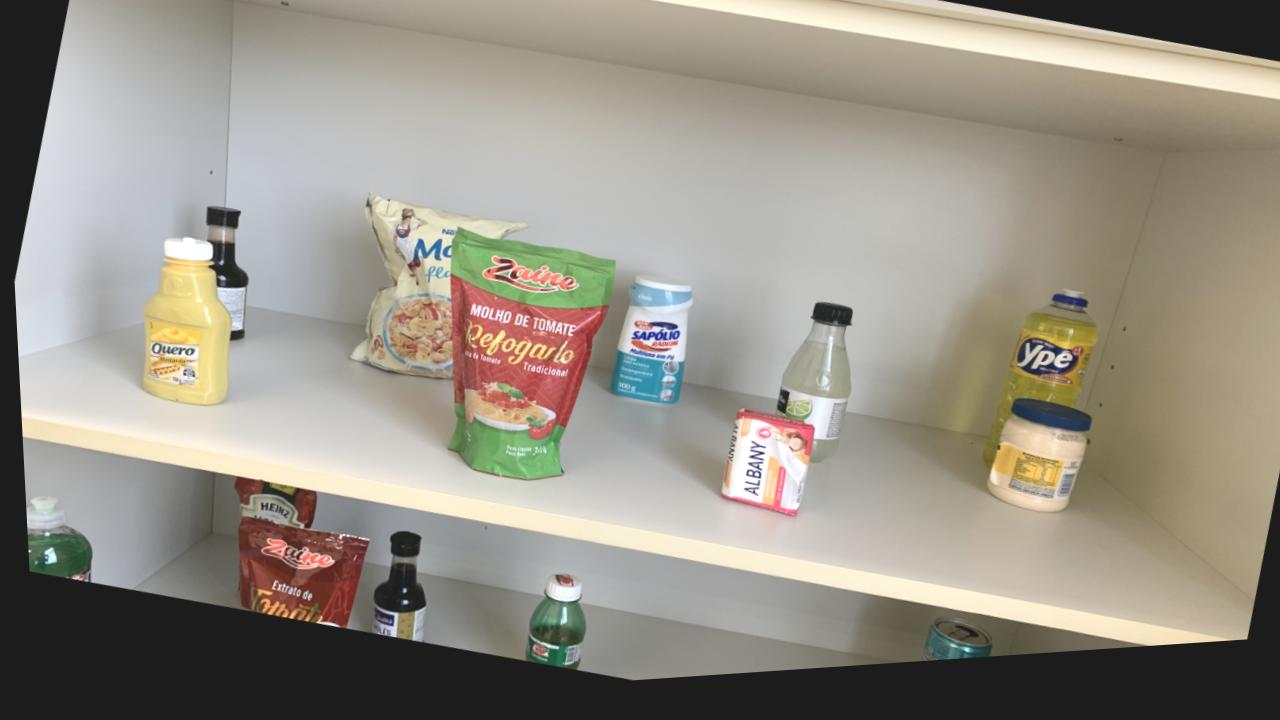Cleaner-Cleanup_Items: (605, 285, 689, 413)
Detergent-Cleanup_Items: (977, 305, 1094, 478), (21, 497, 87, 583)
English_Sauce-Pantry_Items: (364, 537, 420, 647), (203, 209, 246, 344)
Flakes-Snacks: (346, 198, 521, 385)
Guarana-Drinks: (517, 583, 579, 677)
Mayonnaise-Pantry_Items: (981, 412, 1086, 527)
Mustard-Pantry_Items: (138, 240, 229, 408)
Soap-Cleanup_Items: (715, 420, 810, 526)
Soda-Drinks: (771, 314, 849, 474)
Tea-Drinks: (912, 630, 985, 674)
Tomato_Sauce-Pantry_Items: (445, 234, 612, 487), (232, 520, 362, 631), (228, 480, 312, 533)
